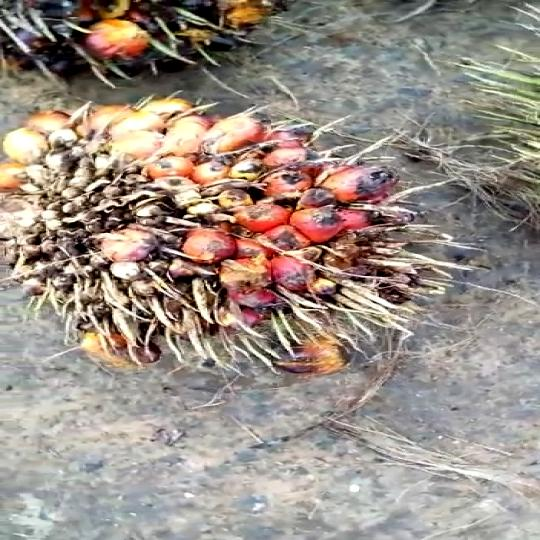masak: (0, 95, 450, 385)
